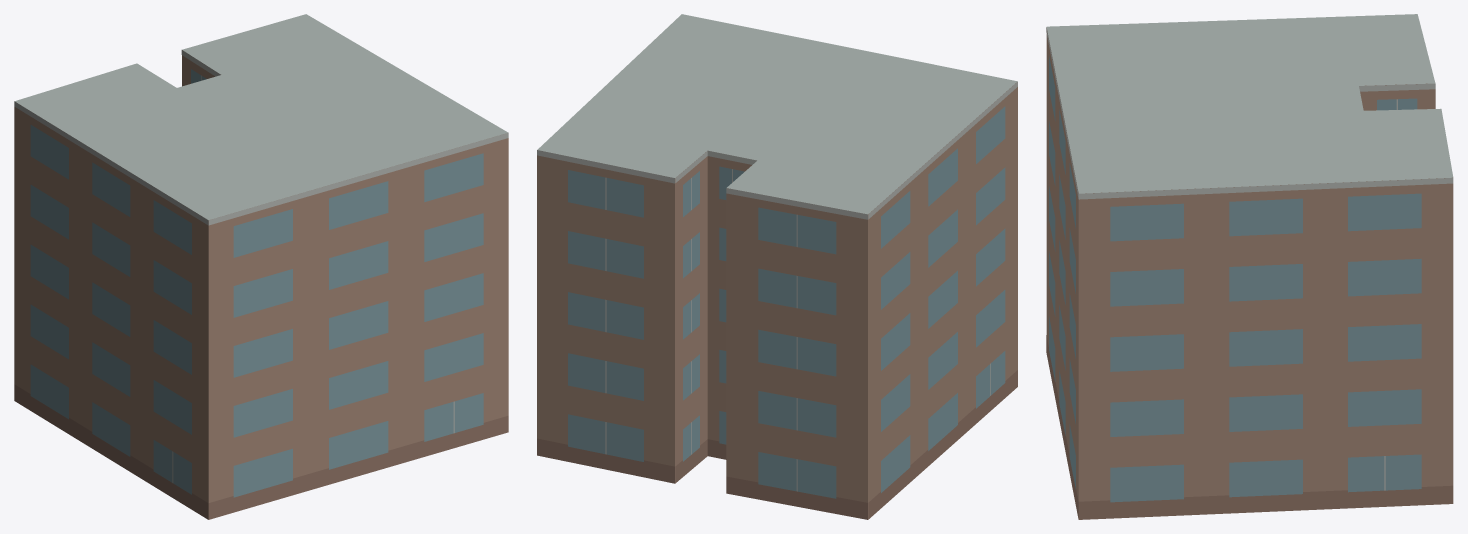
Rendered from survey-upis-32664189.glb.
3 renders of one model, left to right at view 1: azimuth 30°, elevation 25°; view 2: azimuth 150°, elevation 25°; view 3: azimuth 270°, elevation 25°, orthographic. The views are drawn at different scales.
Parts seen in each view (by area): view 1: survey-upis-32664189.tmp; view 2: survey-upis-32664189.tmp; view 3: survey-upis-32664189.tmp.
Boxes of the visible parts, x1,y1,x2,y2 form: survey-upis-32664189.tmp: (14,14,508,519); survey-upis-32664189.tmp: (537,14,1017,519); survey-upis-32664189.tmp: (1046,14,1453,519).
Size of the model in its own units: 16.2 by 13.7 by 15.5.
